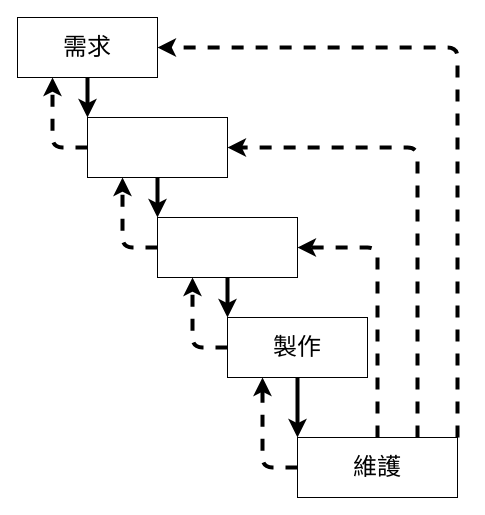
Some shapes in this 485 by 515 pixel diagram are drawn without their labels. Each missing label, with the box of its shape:
分析: (86, 116, 228, 178)
設計: (156, 216, 298, 278)
